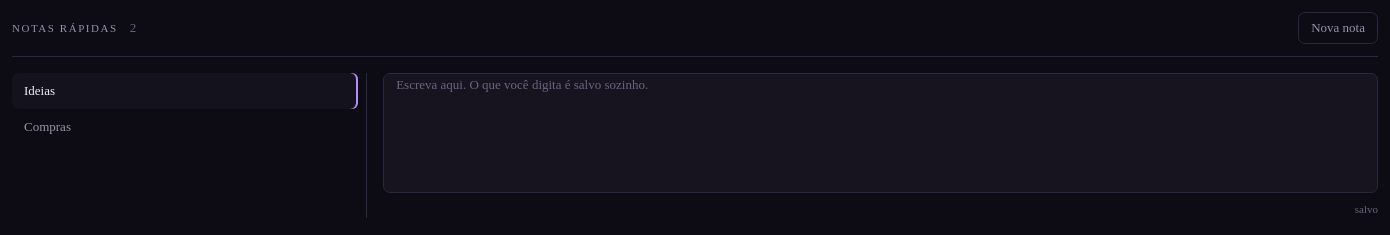
Test case: NotesPanel › apaga a aba depois de confirmar
Step 1. Click the button named "apagar Ideias" → (345, 91), box [332,78,358,104]
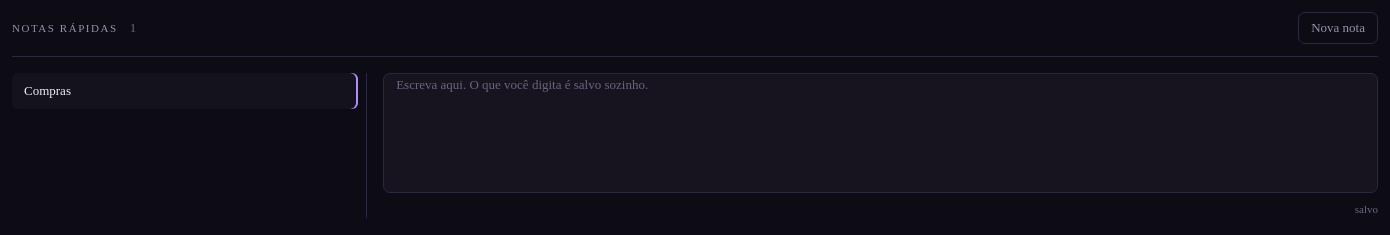
Expected: the button "Compras" is shown, [12,73,324,109]
Expected: the button "Ideias" is gone
